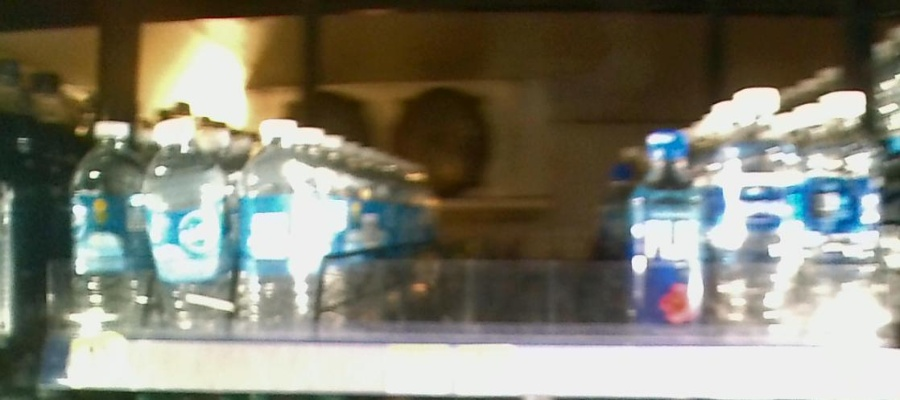bottle: (808, 81, 885, 348), (722, 86, 799, 347), (148, 113, 229, 341), (631, 124, 708, 347), (68, 114, 143, 339), (237, 114, 310, 339)
